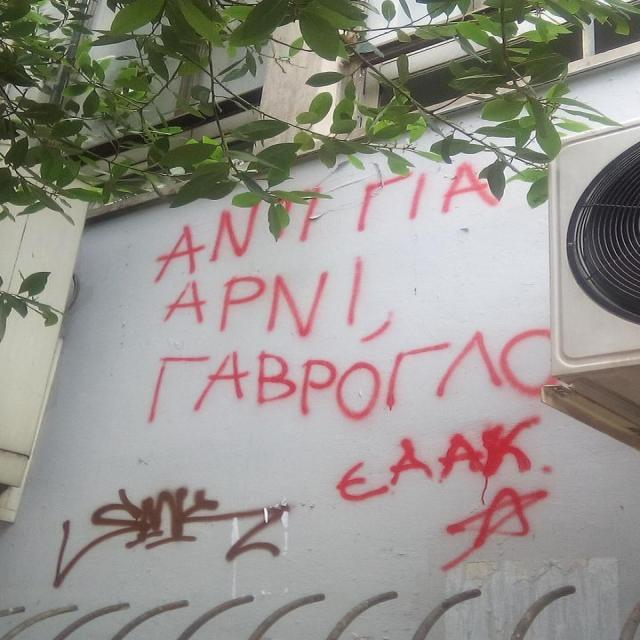nonspitting: (145, 162, 566, 420), (338, 413, 551, 571), (49, 484, 290, 589)
